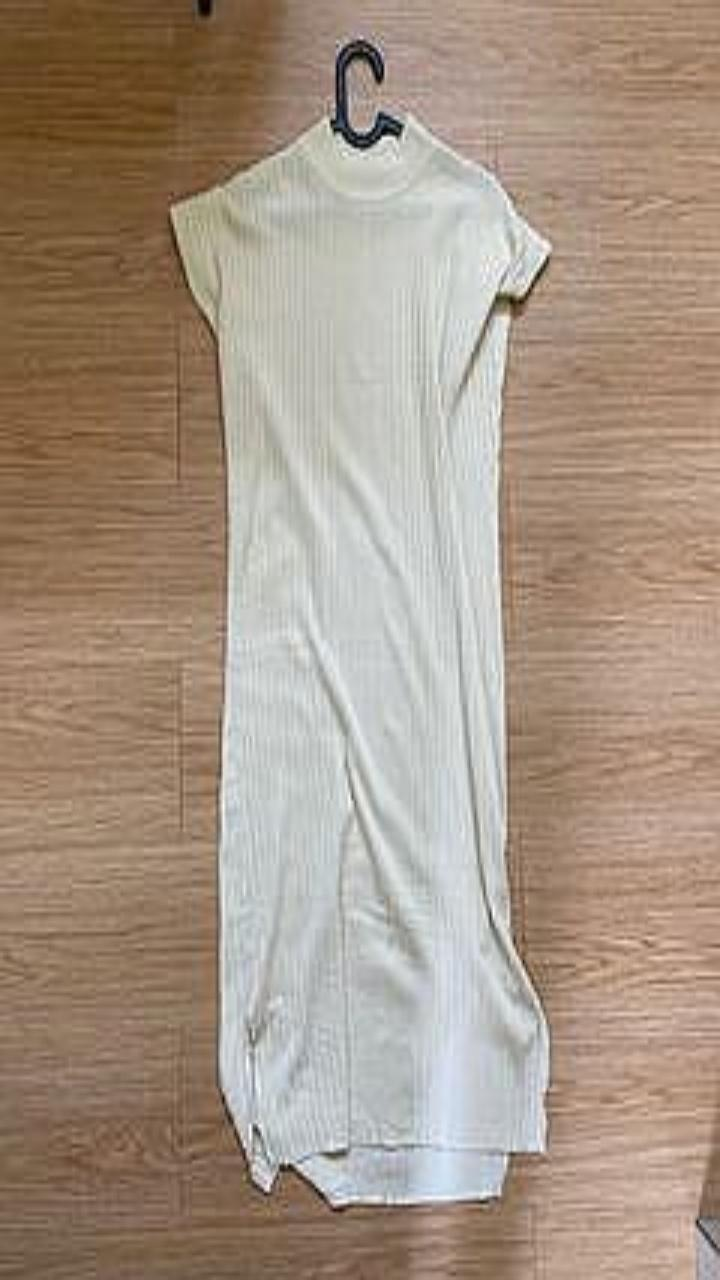T-Shirt: (170, 113, 550, 1205)
